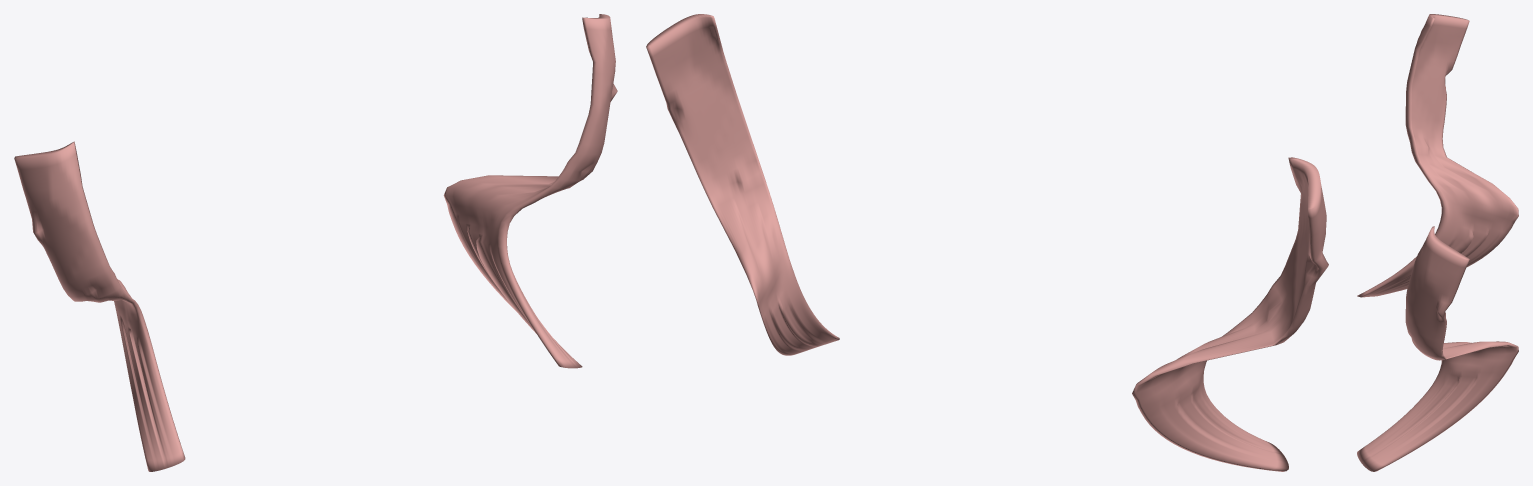
The model's file is zygomaticus_lod1.glb.
3 views of the same model, side by side, from view 1: azimuth 30°, elevation 25°; view 2: azimuth 150°, elevation 25°; view 3: azimuth 270°, elevation 25° (orthographic). The views are drawn at different scales.
Parts seen in each view (by area): view 1: zygomaticus_R_lod1, zygomaticus_L_lod1; view 2: zygomaticus_L_lod1, zygomaticus_R_lod1; view 3: zygomaticus_L_lod1, zygomaticus_R_lod1.
Part boxes in pixels (box(x1,y1,x2,y2)): zygomaticus_R_lod1: box(14, 141, 185, 471); zygomaticus_L_lod1: box(443, 14, 617, 368); zygomaticus_L_lod1: box(646, 14, 839, 355); zygomaticus_R_lod1: box(1132, 157, 1328, 471); zygomaticus_L_lod1: box(1357, 226, 1518, 471); zygomaticus_R_lod1: box(1357, 14, 1518, 297).
Size of the model in its own units: 0.1095 by 0.0554 by 0.0311.
